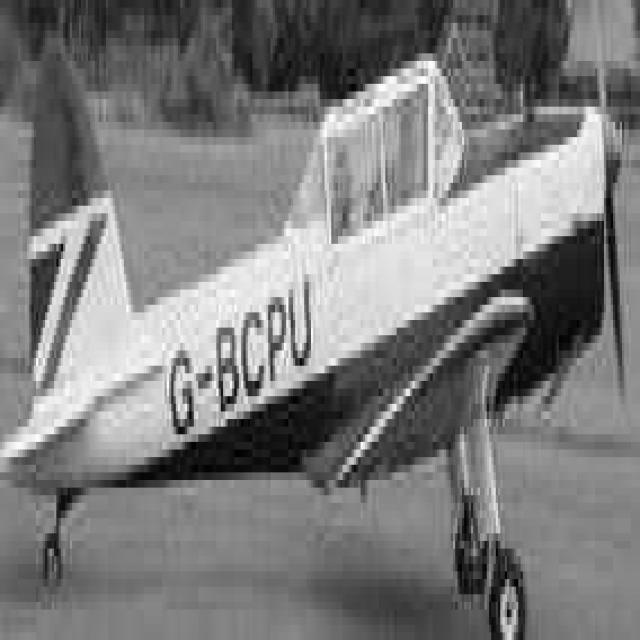Aircraft: (10, 36, 620, 602)
